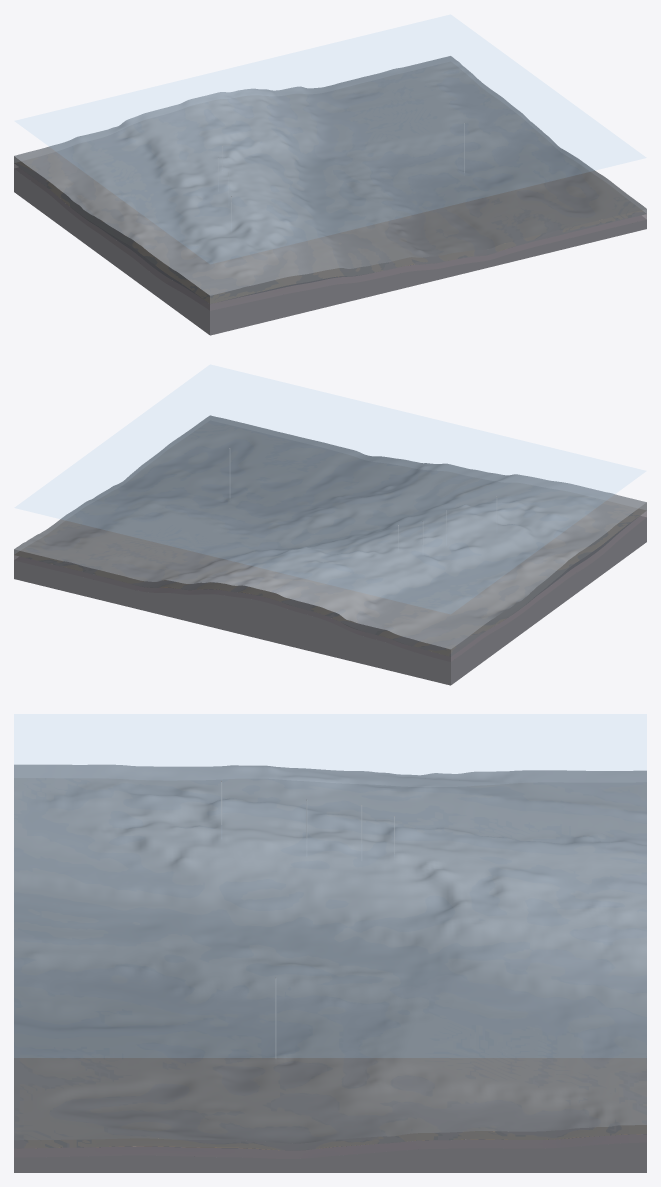
File: seafloor_v4.glb
The picture shows the model from 3 angles, top to bottom: view 1: azimuth 30°, elevation 25°; view 2: azimuth 150°, elevation 25°; view 3: azimuth 270°, elevation 25°; orthographic projection. The views are drawn at different scales.
Parts seen in each view (by area): view 1: basement_top, seafloor_plane, 5_Undifferentiated_basalt, 4_Lower_pillow_basalt, 1_Upper_pillow_basalt, 3_Massive_and_sheet_flows, 2_Hyaloclastite_breccia; view 2: seafloor_plane, basement_top, 5_Undifferentiated_basalt, 4_Lower_pillow_basalt, 1_Upper_pillow_basalt, 2_Hyaloclastite_breccia, 3_Massive_and_sheet_flows; view 3: basement_top, seafloor_plane, 5_Undifferentiated_basalt, 4_Lower_pillow_basalt, 1_Upper_pillow_basalt, 2_Hyaloclastite_breccia.
Boxes of the visible parts, left/top/right/bottom form: basement_top: left=14, top=56, right=646, bottom=295; seafloor_plane: left=15, top=15, right=645, bottom=263; 5_Undifferentiated_basalt: left=14, top=168, right=646, bottom=335; 4_Lower_pillow_basalt: left=14, top=163, right=646, bottom=310; 1_Upper_pillow_basalt: left=14, top=156, right=646, bottom=303; 3_Massive_and_sheet_flows: left=47, top=182, right=633, bottom=302; 2_Hyaloclastite_breccia: left=19, top=162, right=641, bottom=303; seafloor_plane: left=15, top=365, right=645, bottom=613; basement_top: left=14, top=415, right=646, bottom=649; 5_Undifferentiated_basalt: left=14, top=516, right=646, bottom=685; 4_Lower_pillow_basalt: left=14, top=511, right=646, bottom=661; 1_Upper_pillow_basalt: left=14, top=502, right=646, bottom=656; 2_Hyaloclastite_breccia: left=16, top=508, right=644, bottom=655; 3_Massive_and_sheet_flows: left=28, top=513, right=643, bottom=646; basement_top: left=14, top=764, right=646, bottom=1143; seafloor_plane: left=14, top=714, right=646, bottom=1057; 5_Undifferentiated_basalt: left=14, top=1135, right=646, bottom=1172; 4_Lower_pillow_basalt: left=14, top=1126, right=646, bottom=1158; 1_Upper_pillow_basalt: left=14, top=1125, right=646, bottom=1150; 2_Hyaloclastite_breccia: left=25, top=1125, right=646, bottom=1150.
Bounding box in the file's own units: 4500 × 707 × 3500.
38 materials, 20 textured.
